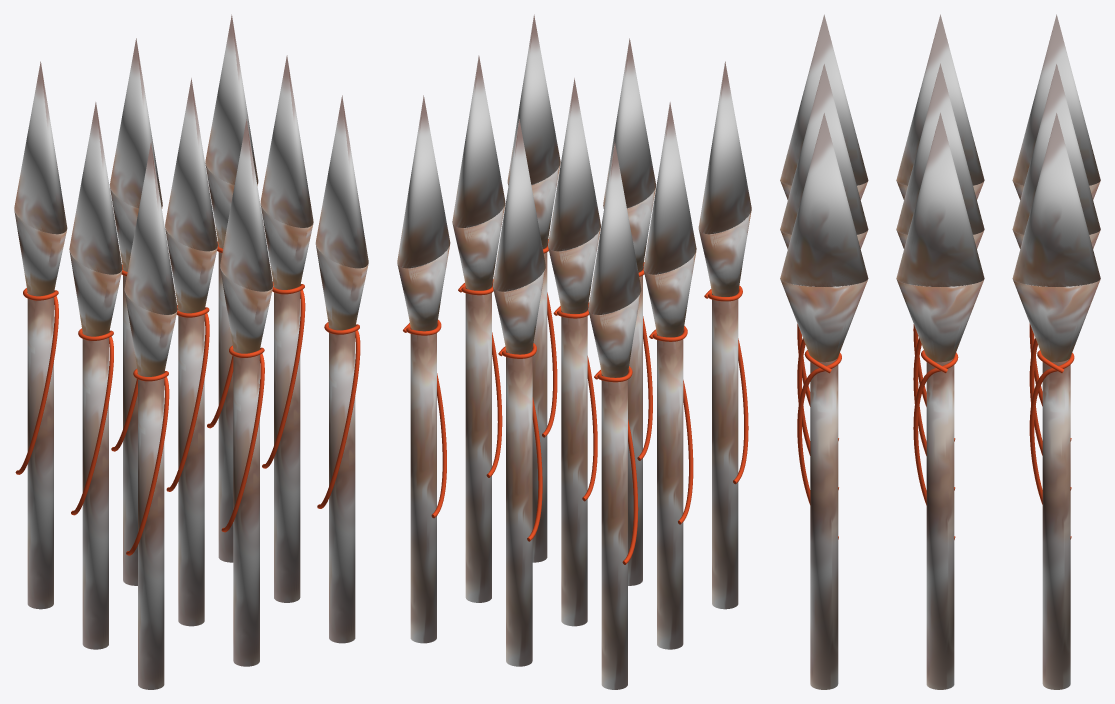
The model's file is spikes 1.fbx.
The picture shows the model from 3 angles, left to right: view 1: azimuth 30°, elevation 25°; view 2: azimuth 150°, elevation 25°; view 3: azimuth 270°, elevation 25°; orthographic projection. The views are drawn at different scales.
Parts seen in each view (by area): view 1: Cylinder.003, Cylinder.004, Cylinder, Cylinder.002, Cylinder.008, Cylinder.005, Cylinder.006, Cone.004, Cone.001, Cone.003, Cone.007, Cone.008 (+13 smaller); view 2: Cylinder.007, Cylinder.002, Cylinder.006, Cylinder.001, Cylinder.003, Cylinder.004, Cylinder.005, Cone.002, Cone.007, Cone.003, Cone.004, Cone.005 (+15 smaller); view 3: Cone.007, Cone.008, Cone.006, Cylinder.008, Cylinder.007, Cylinder.006, Cone.004, Cone.001, Cone.003, Cone.005, Cone, Cone.002 (+6 smaller).
Part boxes in pixels (x1,y1,x2,y2): Cylinder.003: [82, 338, 108, 649]; Cylinder.004: [27, 297, 53, 609]; Cylinder: [233, 354, 259, 666]; Cylinder.002: [178, 314, 204, 626]; Cylinder.008: [329, 331, 355, 643]; Cylinder.005: [138, 378, 164, 689]; Cylinder.006: [274, 291, 300, 602]; Cone.004: [69, 102, 122, 336]; Cone.001: [165, 78, 217, 313]; Cone.003: [14, 61, 67, 296]; Cone.007: [260, 55, 313, 289]; Cone.008: [315, 95, 368, 330]; Cylinder.007: [410, 328, 436, 643]; Cylinder.002: [561, 310, 587, 626]; Cylinder.006: [465, 287, 491, 602]; Cylinder.001: [506, 350, 532, 666]; Cylinder.003: [657, 334, 683, 649]; Cylinder.004: [601, 374, 627, 689]; Cylinder.005: [712, 293, 738, 609]; Cone.002: [492, 119, 545, 354]; Cone.007: [452, 55, 505, 290]; Cone.003: [588, 142, 641, 377]; Cone.004: [643, 102, 696, 337]; Cone.005: [698, 61, 751, 296]; Cone.007: [896, 112, 984, 362]; Cone.008: [780, 113, 868, 362]; Cone.006: [1012, 113, 1100, 362]; Cylinder.008: [810, 359, 838, 689]; Cylinder.007: [1042, 359, 1070, 689]; Cylinder.006: [926, 359, 954, 689]; Cone.004: [896, 14, 984, 199]; Cone.001: [896, 63, 984, 248]; Cone.003: [1012, 14, 1100, 199]; Cone.005: [780, 14, 868, 199]; Cone: [780, 64, 868, 249]; Cone.002: [1012, 64, 1100, 248].
Bounding box in the file's own units: 119 × 272 × 138.
Materials: 25 (24 with a texture image).
